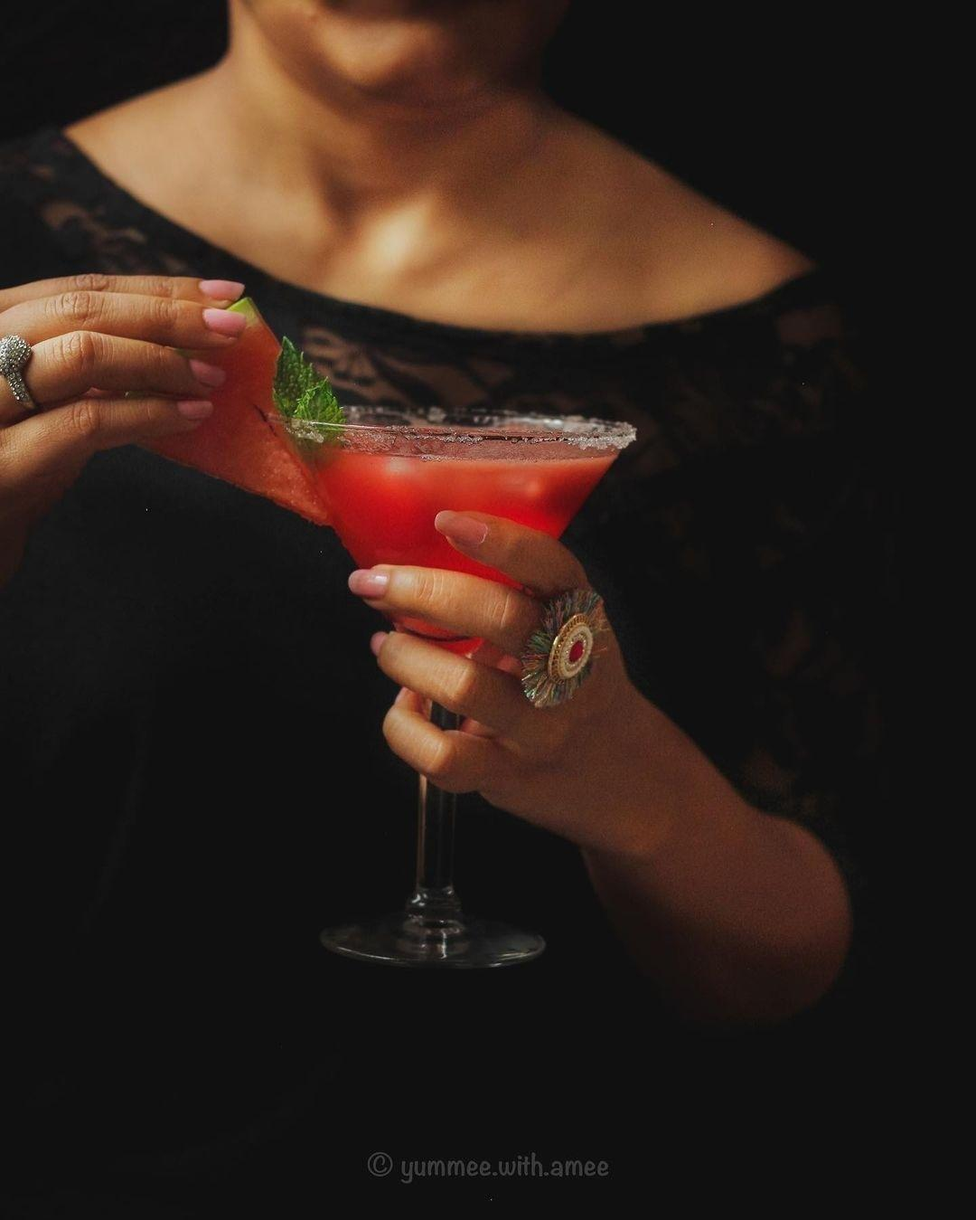glass-wine: (273, 395, 644, 974)
